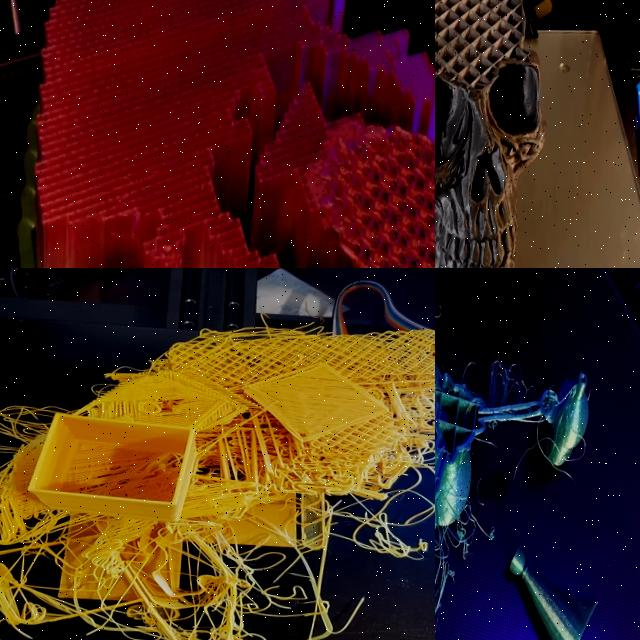spaghetti: (0, 507, 435, 640), (298, 329, 435, 570), (435, 488, 518, 585), (0, 376, 57, 470), (435, 583, 471, 640)
